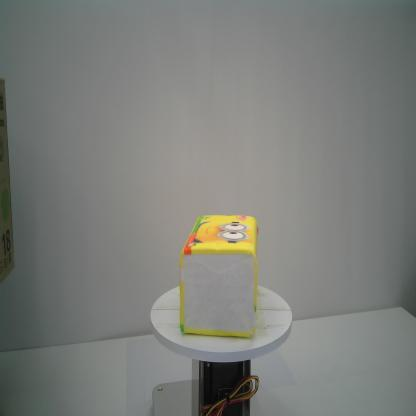Tissue: (177, 212, 259, 340)
